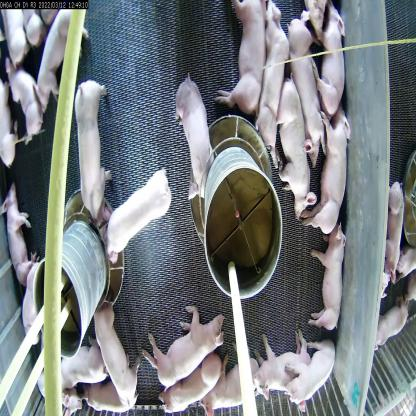Pig: (151, 275, 223, 370), (68, 74, 114, 217), (242, 5, 285, 153), (28, 7, 88, 110), (215, 0, 264, 116), (281, 7, 322, 145), (268, 94, 319, 196), (305, 217, 345, 347), (112, 163, 170, 252), (93, 313, 139, 416), (307, 102, 345, 220), (157, 348, 221, 415), (0, 175, 31, 294), (294, 346, 338, 415), (61, 338, 109, 401), (210, 356, 258, 416), (255, 336, 289, 408)
